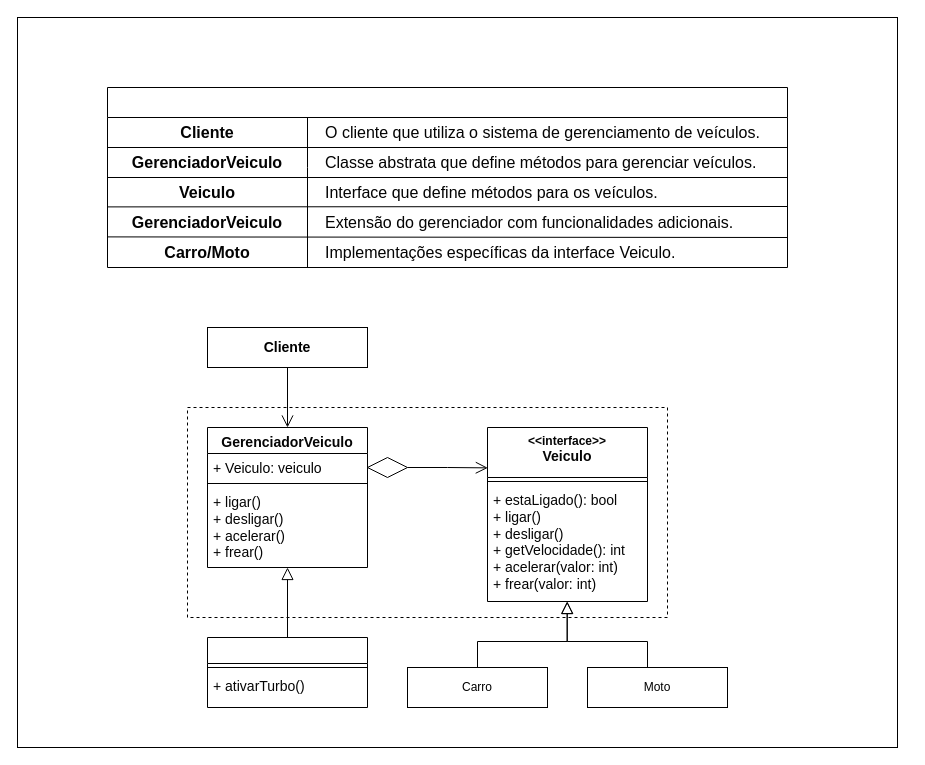
The diagram is 925 pixels wide and 765 high, and some of its shapes have lost their labels. Each missing label, with the box of its shape:
GerenciadorAvancado: (206, 636, 368, 708)
GERENCIAMENTO DE VEICULOS: (106, 86, 788, 268)
